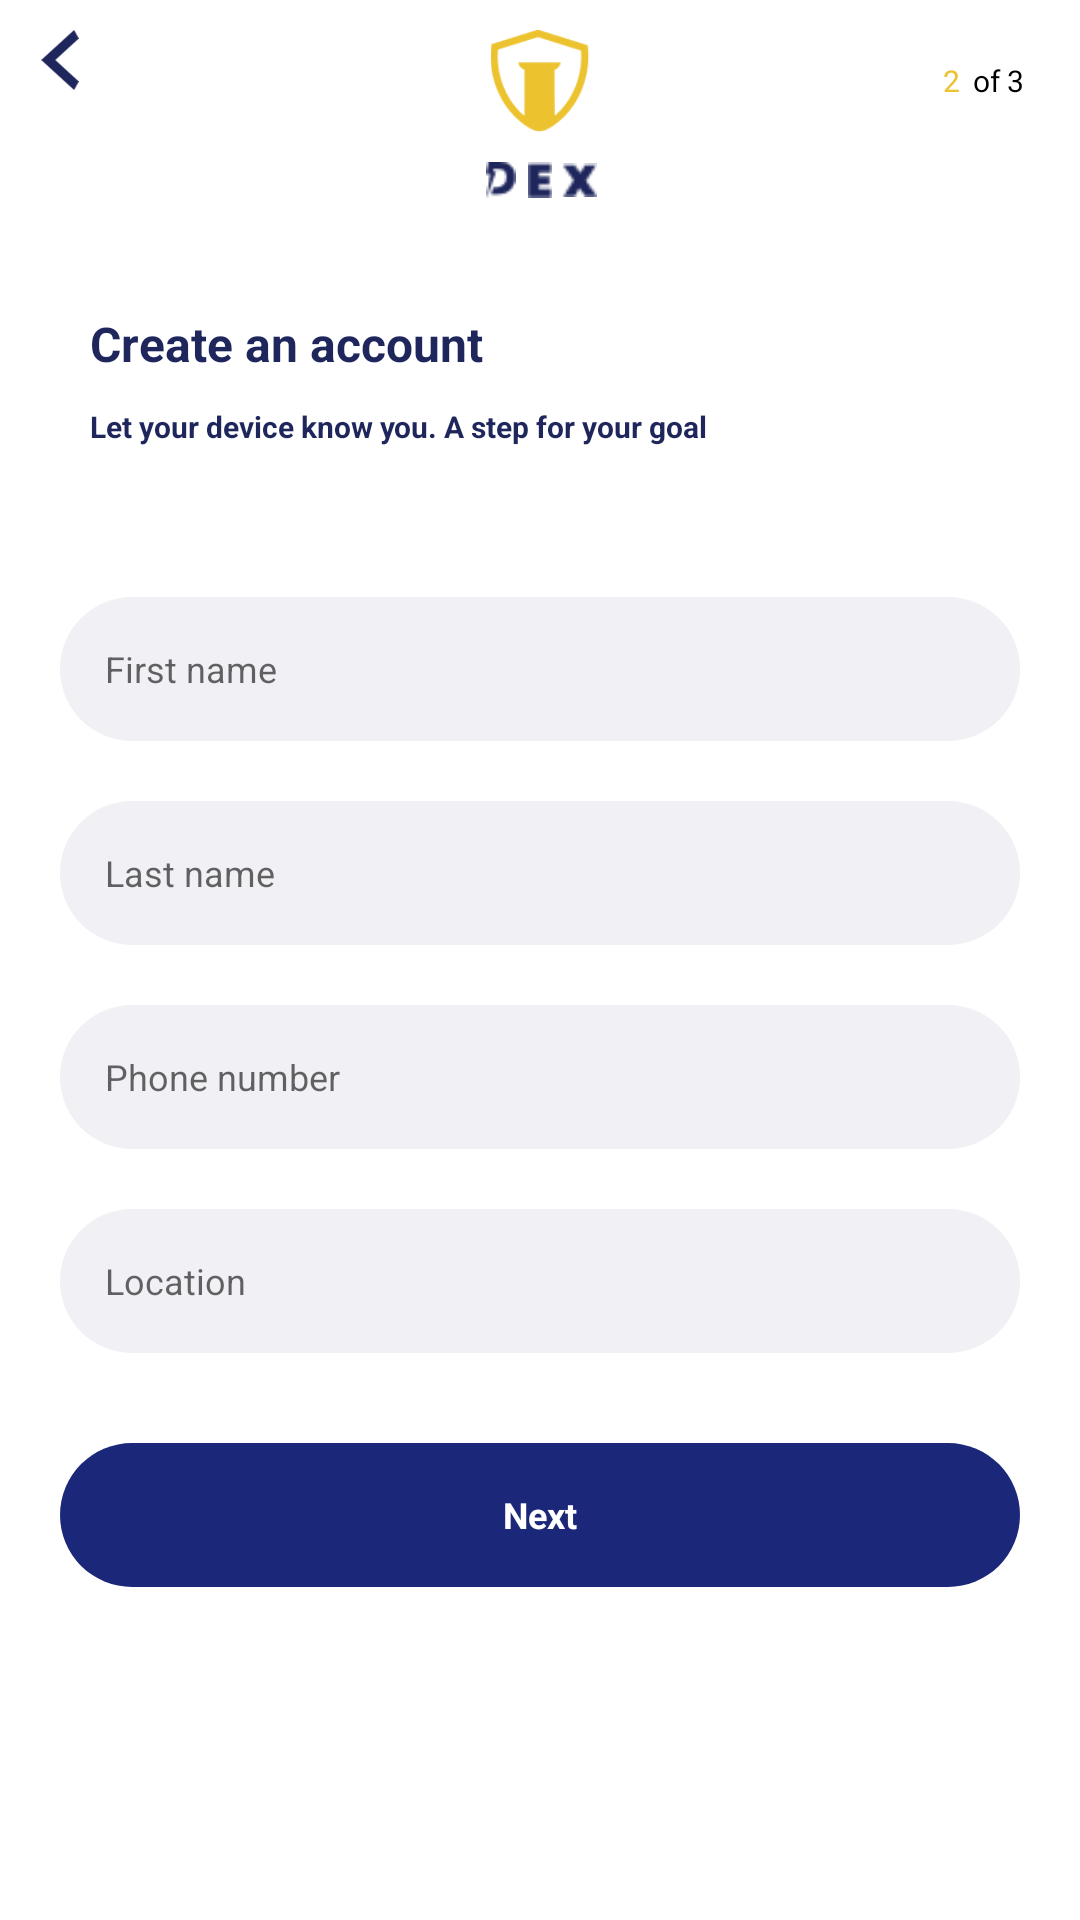

Where to tap for icons on this 1080px×1920px app screen, as point (x, y):
back: point (60, 60)
